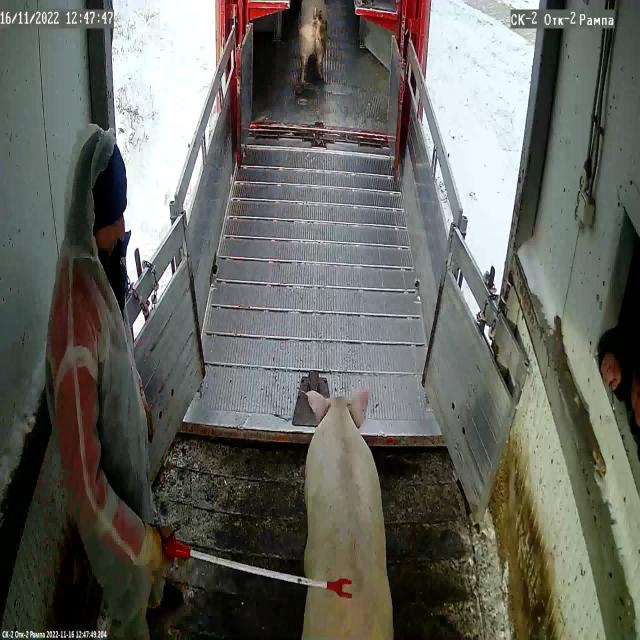pig: (302, 390, 394, 640), (300, 0, 328, 82)
